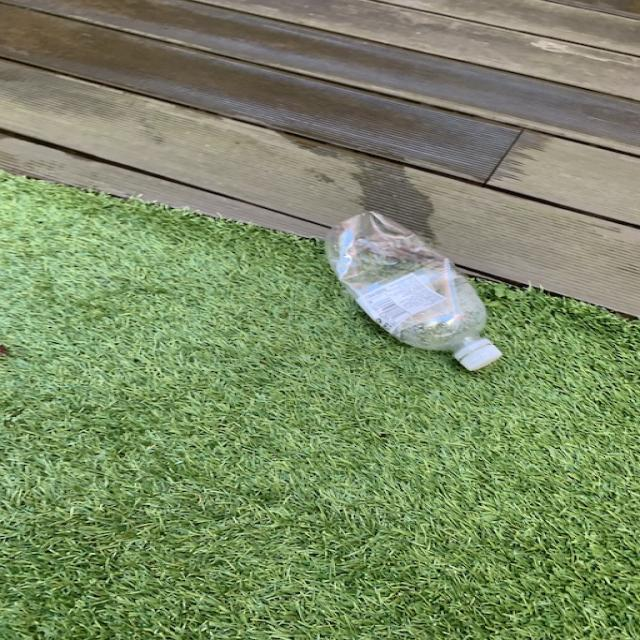PET: (324, 212, 506, 372)
